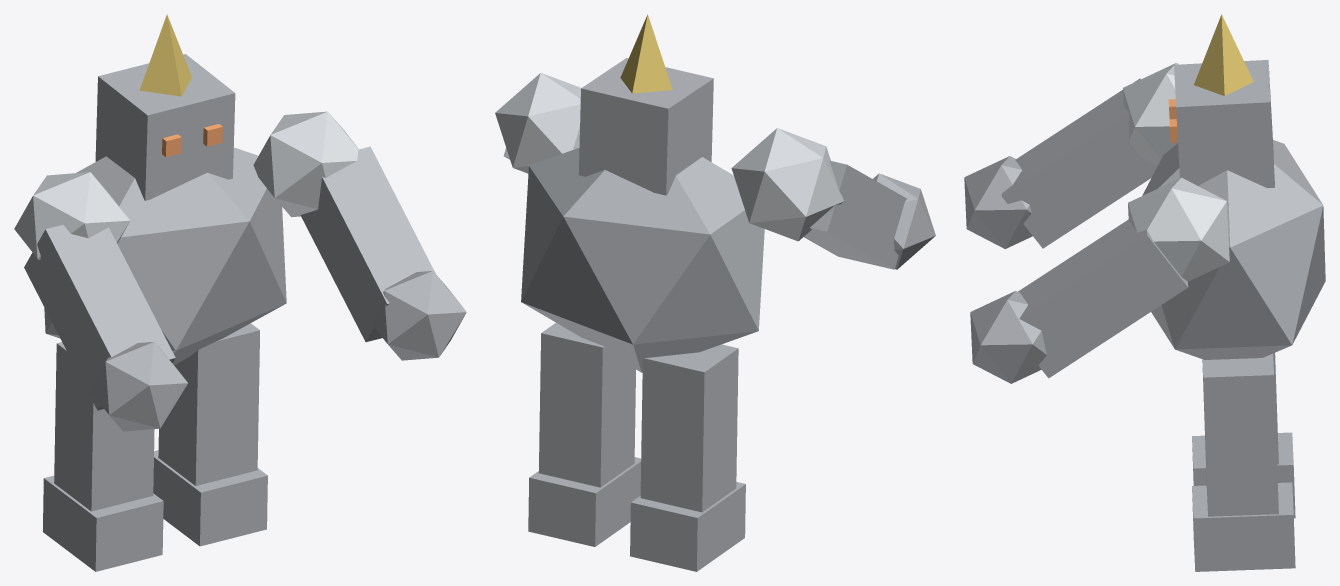
Rendered from npcpose_golem_walk_01.glb.
3 views of the same model, side by side, from view 1: azimuth 30°, elevation 25°; view 2: azimuth 150°, elevation 25°; view 3: azimuth 270°, elevation 25° (orthographic). The views are drawn at different scales.
Parts seen in each view (by area): view 1: npcpose; view 2: npcpose; view 3: npcpose.
Part boxes in pixels (x1,y1,x2,y2): npcpose: (14,14,466,571); npcpose: (495,14,935,571); npcpose: (964,14,1325,571).
Bounding box in the file's own units: 1.38 × 1.93 × 1.22.
